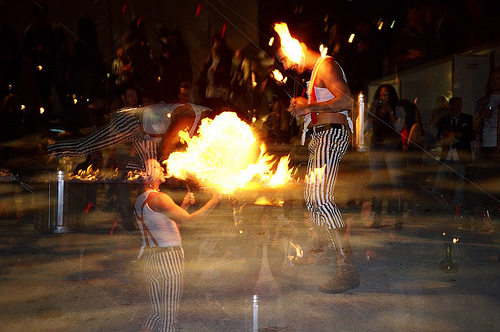fire: (165, 123, 283, 198)
